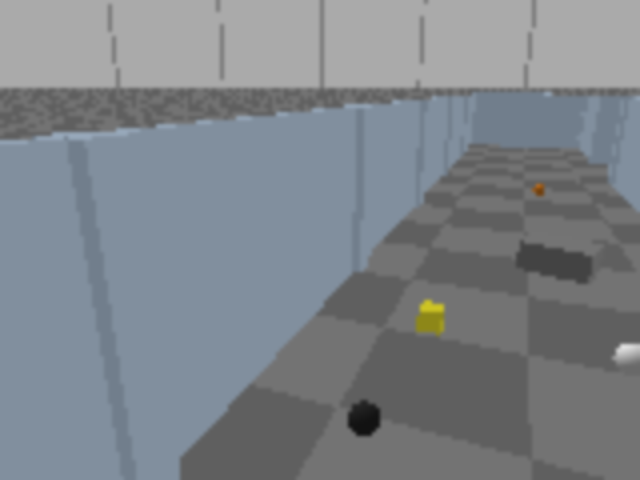obstacle: (516, 231, 605, 285)
puck: (343, 392, 387, 447), (610, 335, 638, 388), (417, 300, 446, 335)
